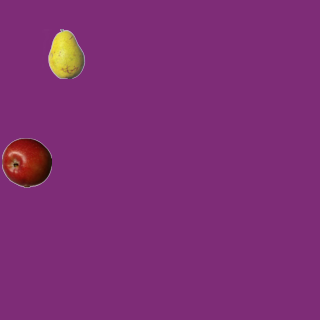Apple Braeburn: (1, 137, 51, 187)
Pear Monster: (41, 28, 91, 78)
